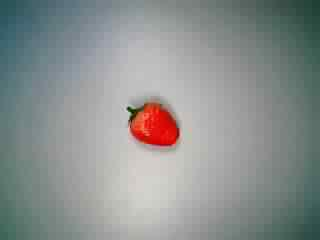strawberry: (123, 95, 185, 159)
